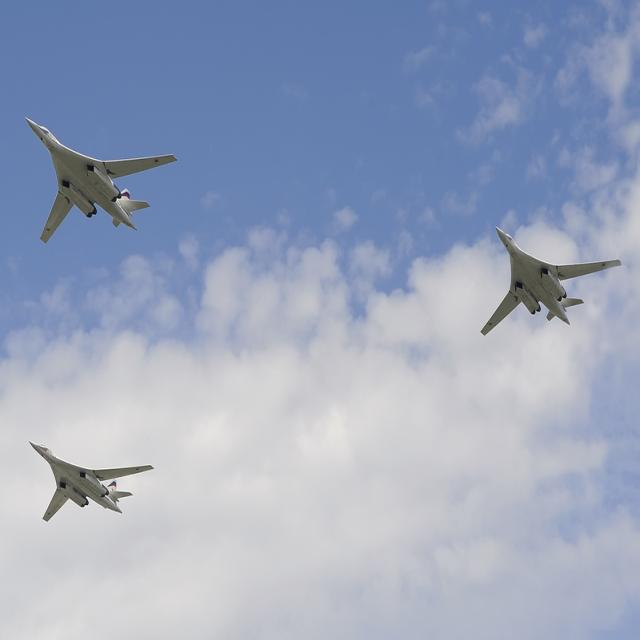MIL_Plane: (25, 13, 177, 141), (480, 225, 622, 337), (28, 443, 155, 520)
